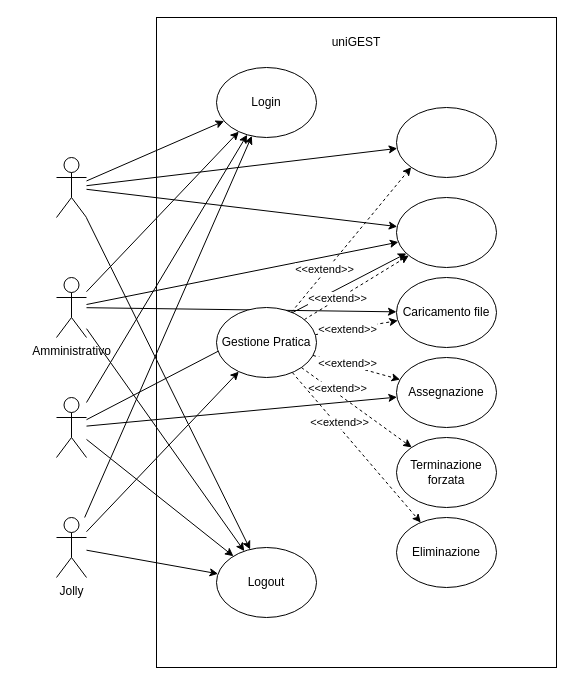
The diagram is 574 pixels wide and 685 high, and some of its shapes have lost their labels. Each missing label, with the centre of its shape:
"Creazione" belongs at pixel 446 142.
"Dirigente" belongs at pixel 71 427.
"Docente/Ricercatore" belongs at pixel 71 187.
"Visualizzazione" belongs at pixel 446 232.
